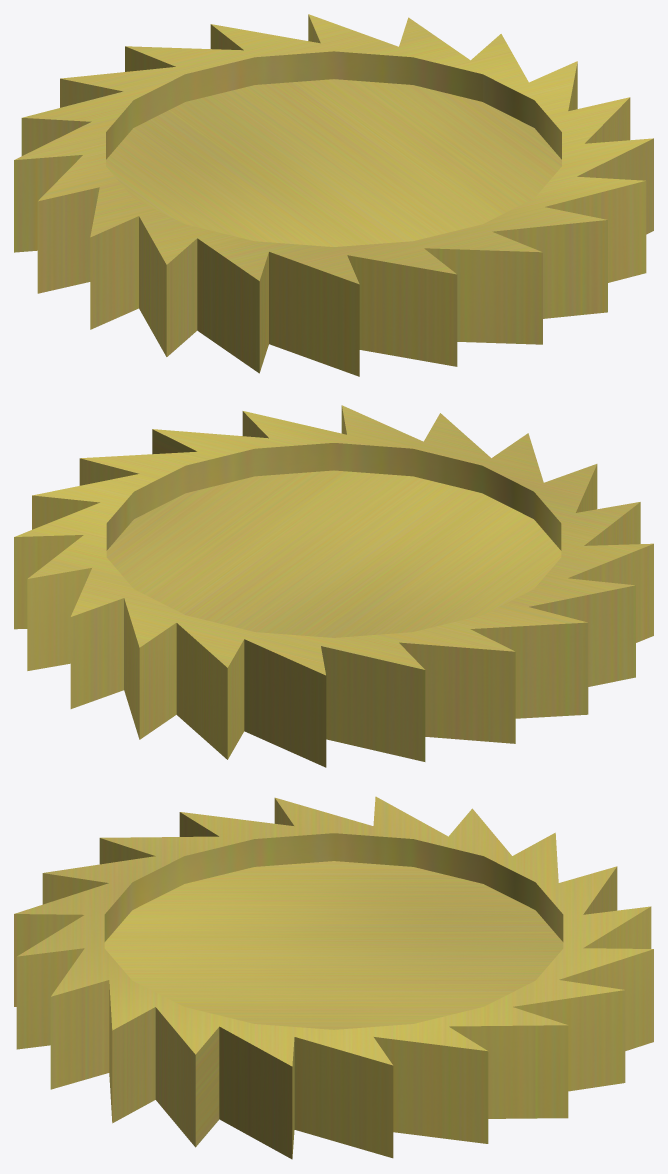
Rendered from ClockAngleFacet020.fbx.
3 views of the same model, one above another, from view 1: azimuth 30°, elevation 25°; view 2: azimuth 150°, elevation 25°; view 3: azimuth 270°, elevation 25° (orthographic).
Parts seen in each view (by area): view 1: ClockAngleFacet020; view 2: ClockAngleFacet020; view 3: ClockAngleFacet020.
Part boxes in pixels (left/top/right/bottom): ClockAngleFacet020: left=14, top=14, right=653, bottom=376; ClockAngleFacet020: left=14, top=405, right=653, bottom=767; ClockAngleFacet020: left=14, top=796, right=653, bottom=1159.
Size of the model in its own units: 123 by 19.69 by 123.
